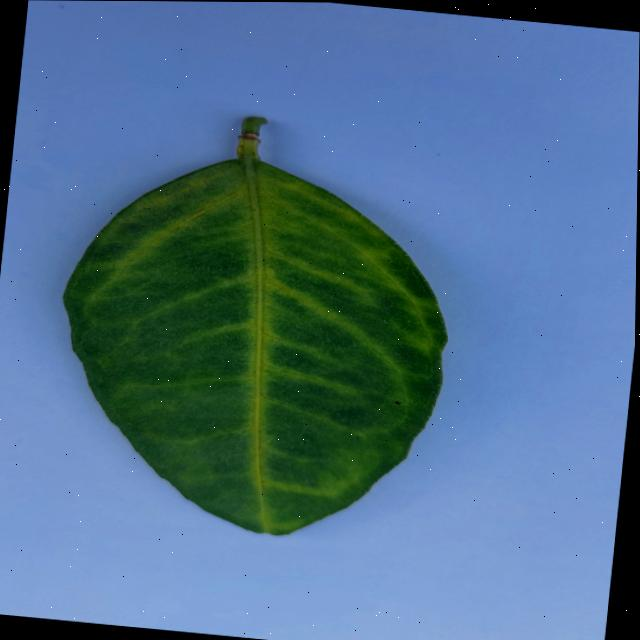greening: (63, 117, 446, 535)
